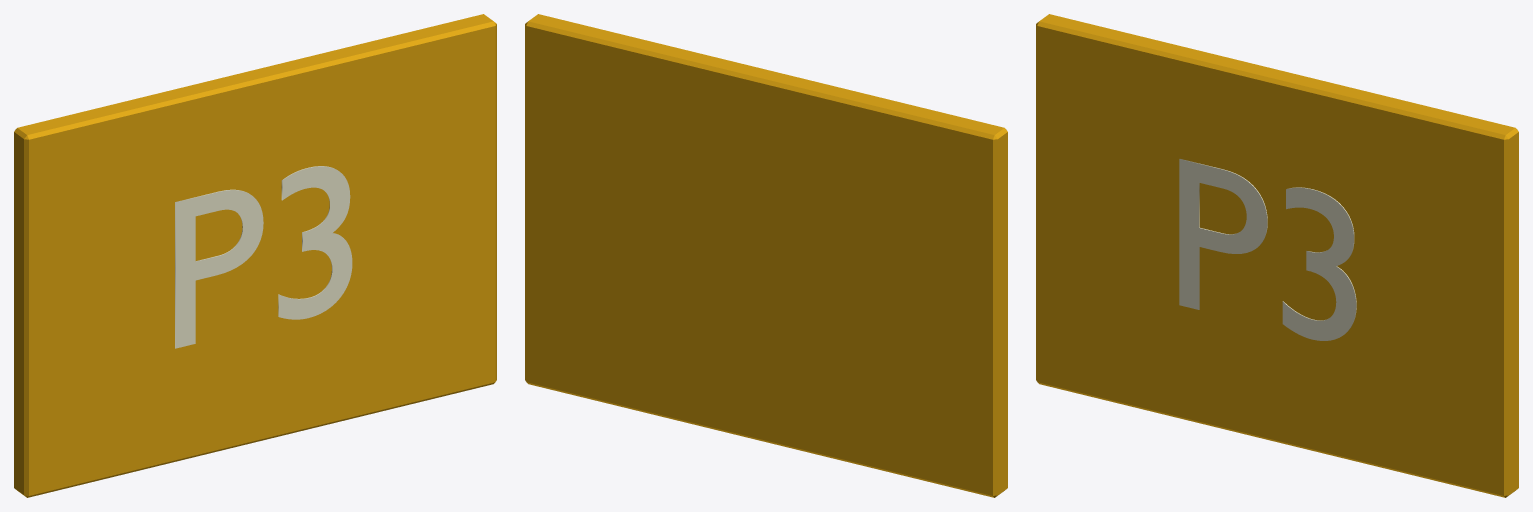
File: SectionP3.fbx
3 renders of one model, left to right at view 1: azimuth 30°, elevation 25°; view 2: azimuth 150°, elevation 25°; view 3: azimuth 330°, elevation 25°, orthographic.
Visible parts, largest first — view 1: SectionP3; view 2: SectionP3; view 3: SectionP3.
Boxes of the visible parts, <box> form: SectionP3: <box>14,14,496,497</box>; SectionP3: <box>525,14,1007,497</box>; SectionP3: <box>1036,14,1518,497</box>.
Bounding box in the file's own units: 120 × 88 × 7.
1 material, 1 textured.
